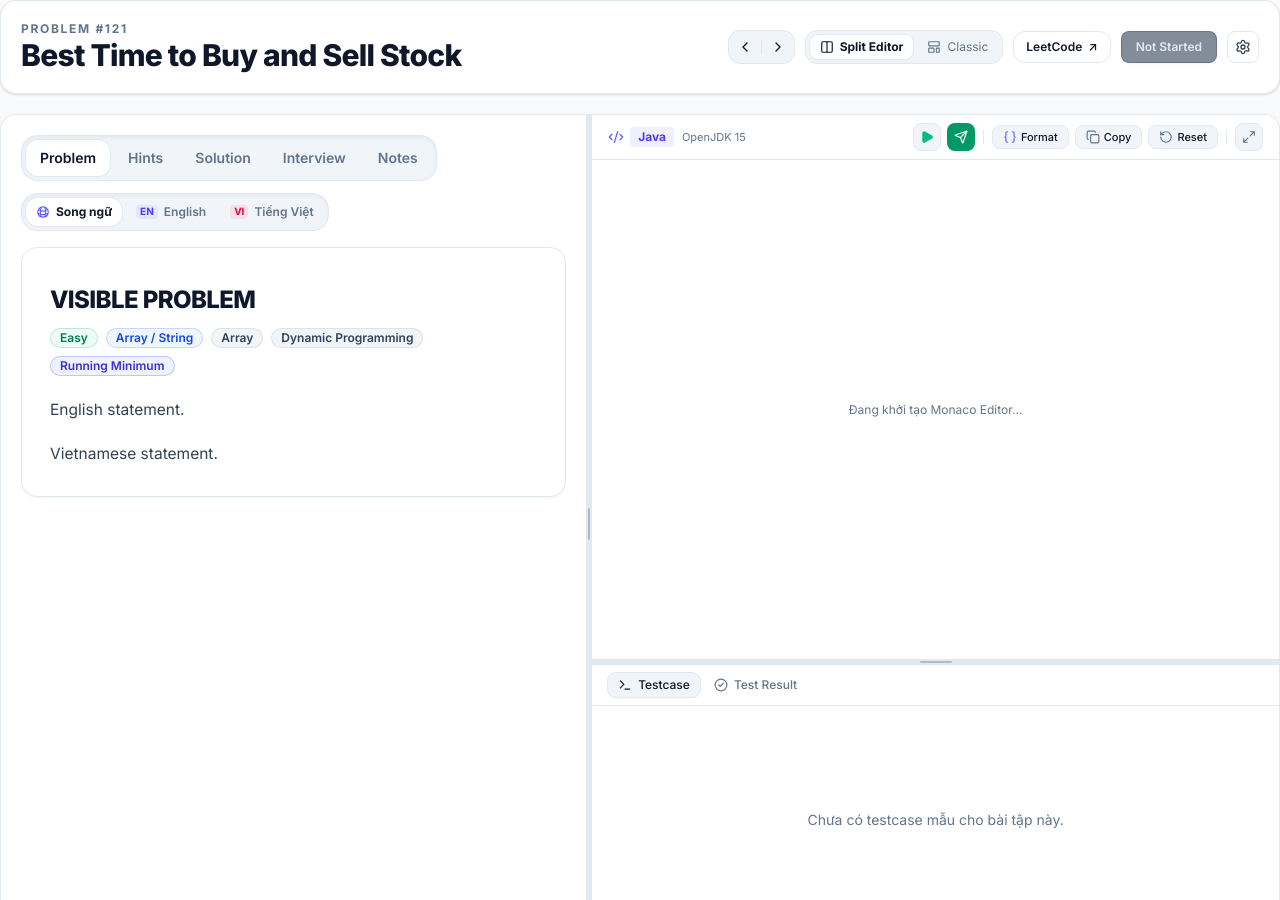
Test: PracticeView › records an intentional interview view
Expected: the heading "VISIBLE PROBLEM" is shown, [50,285,255,314]
Click the tab "Interview".
click(314, 158)  # box [269,140,360,176]
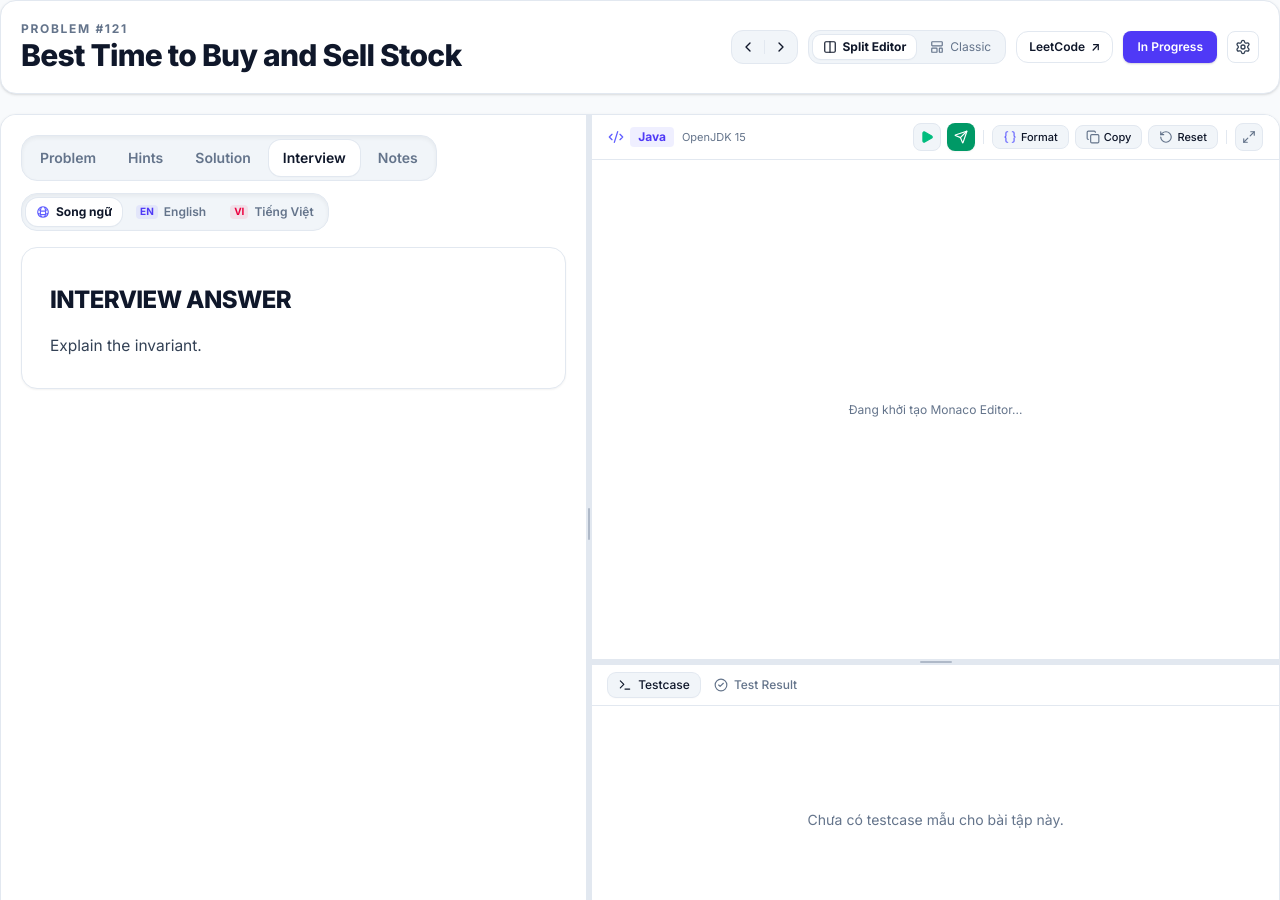
Expected: the heading "INTERVIEW ANSWER" is shown, [50,285,291,314]
